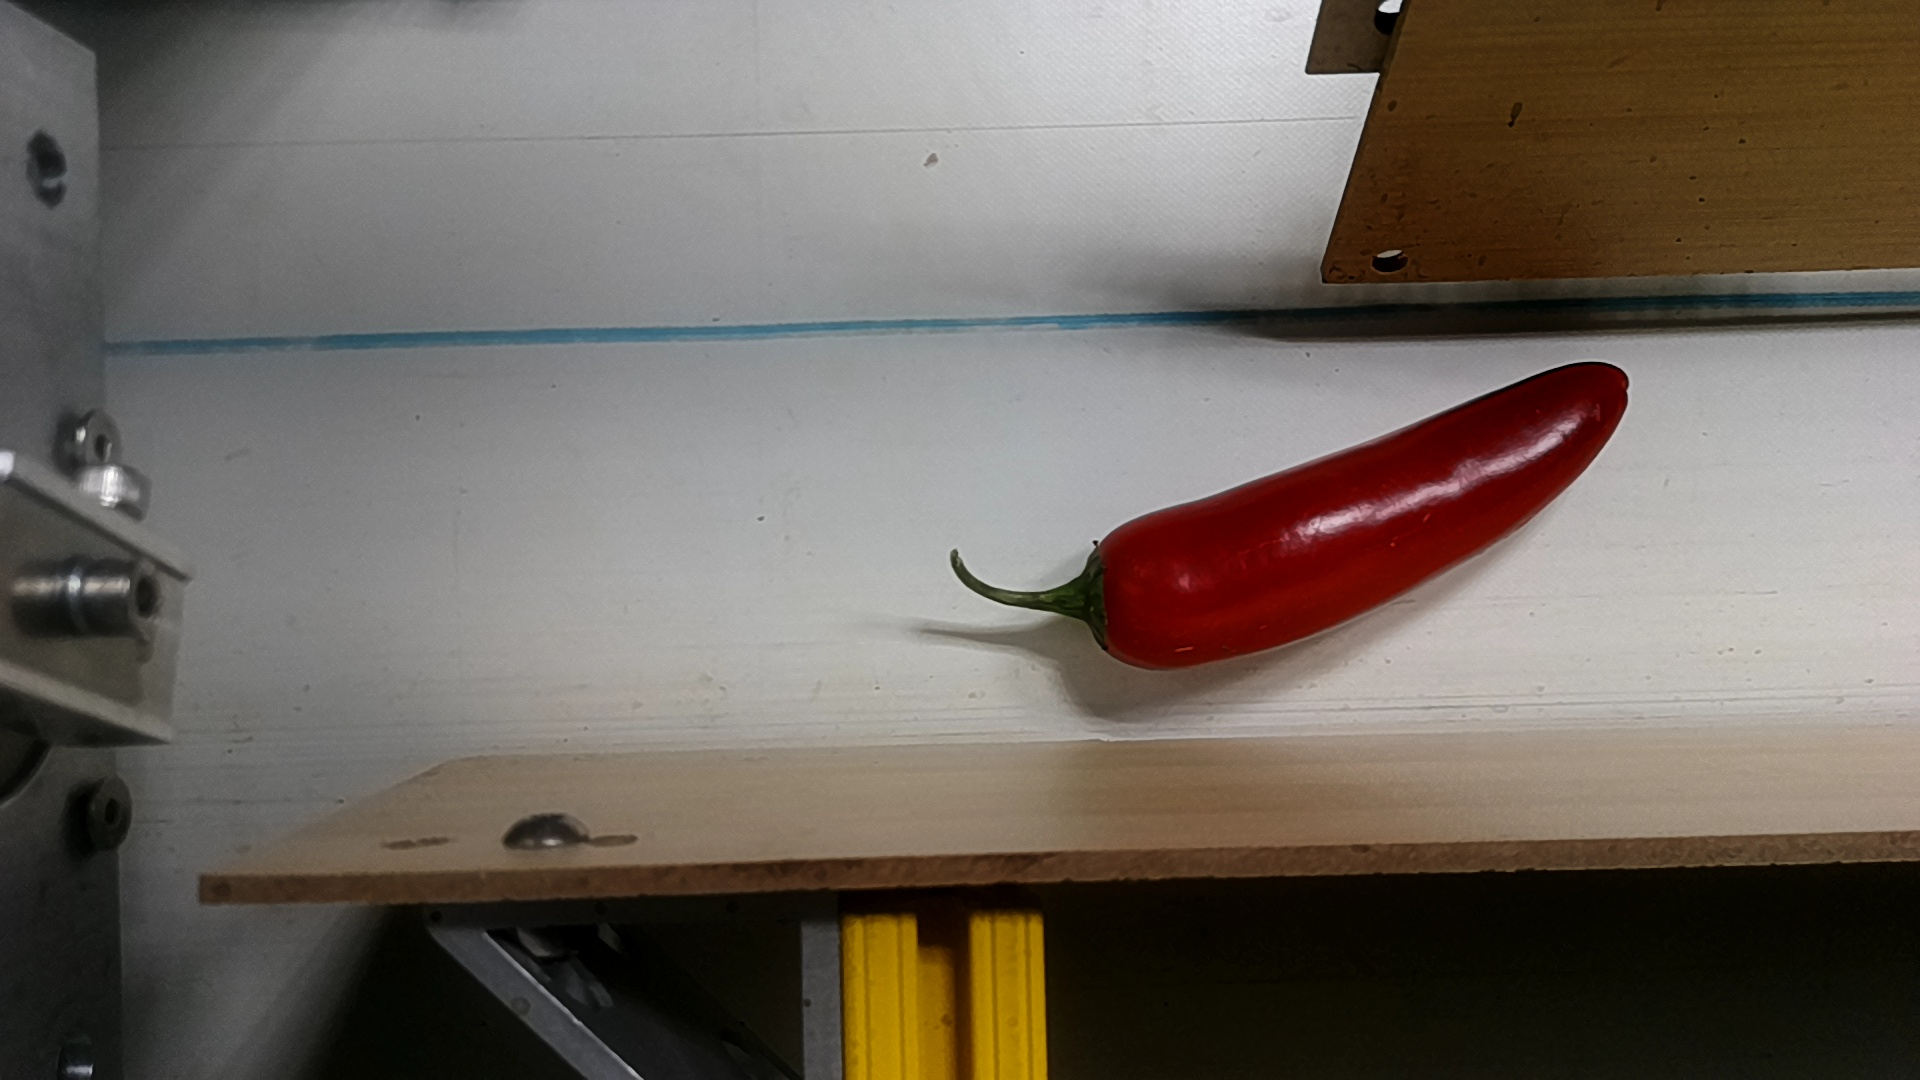Cut Point: (1052, 516, 1168, 682)
